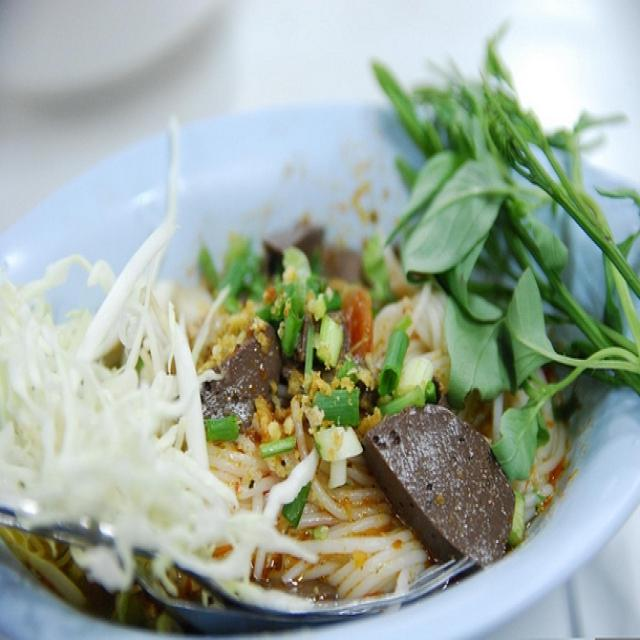面条主食: (14, 55, 636, 634)
